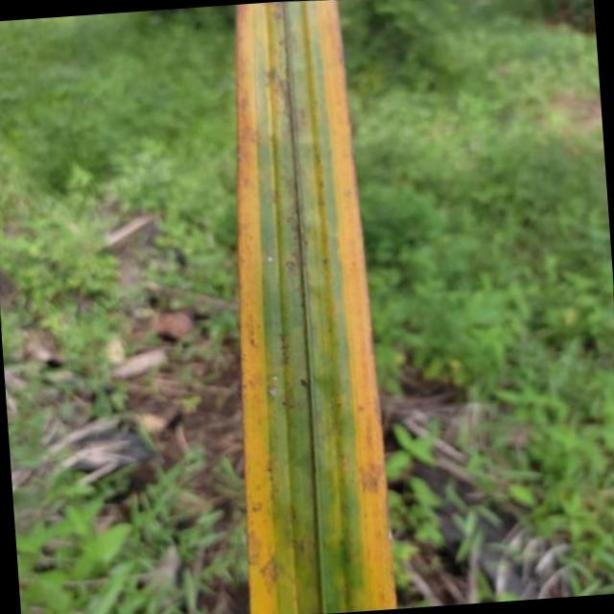Megnesium: (232, 0, 403, 614)
